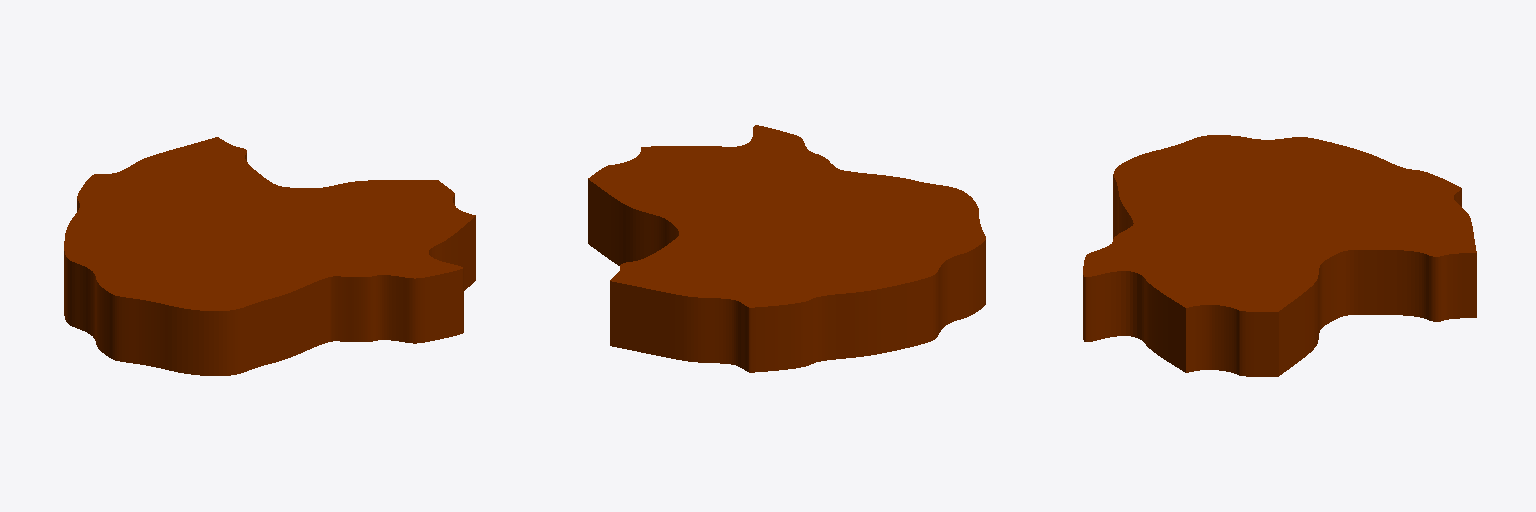
File: Africa_05.obj
3 views of the same model, side by side, from view 1: azimuth 30°, elevation 25°; view 2: azimuth 150°, elevation 25°; view 3: azimuth 270°, elevation 25° (orthographic).
Parts seen in each view (by area): view 1: Africa_05_path4226; view 2: Africa_05_path4226; view 3: Africa_05_path4226.
Part boxes in pixels (x1,y1,x2,y2): Africa_05_path4226: (64, 137, 475, 375); Africa_05_path4226: (588, 125, 985, 372); Africa_05_path4226: (1083, 135, 1476, 376).
Size of the model in its own units: 0.5825 by 0.1 by 0.5488.